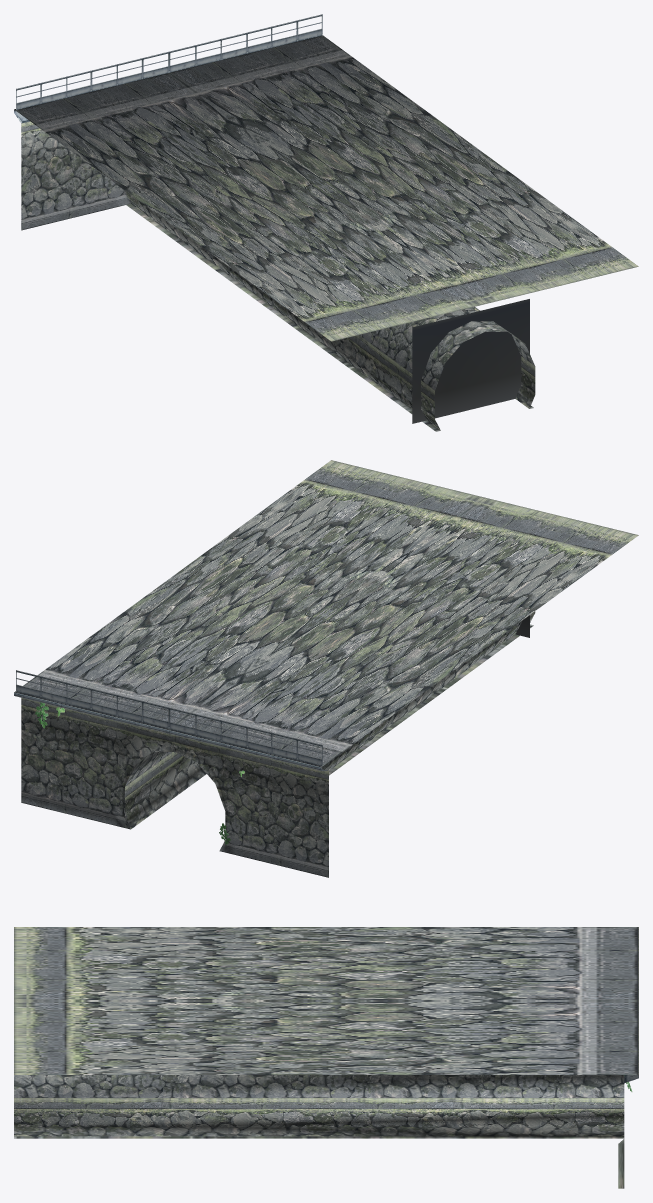
File: BLDG TRAIN  Overpass Tunnl Ba.fbx
3 renders of one model, top to bottom at view 1: azimuth 30°, elevation 25°; view 2: azimuth 150°, elevation 25°; view 3: azimuth 270°, elevation 25°, orthographic.
Visible parts, largest first — view 1: OVERPASS TRAIN Tunnel Ba; view 2: OVERPASS TRAIN Tunnel Ba; view 3: OVERPASS TRAIN Tunnel Ba.
Boxes of the visible parts, x1,y1,x2,y2 form: OVERPASS TRAIN Tunnel Ba: [14, 14, 638, 431]; OVERPASS TRAIN Tunnel Ba: [14, 460, 638, 877]; OVERPASS TRAIN Tunnel Ba: [14, 927, 638, 1188].
Size of the model in its own units: 1200 by 512 by 2145.
